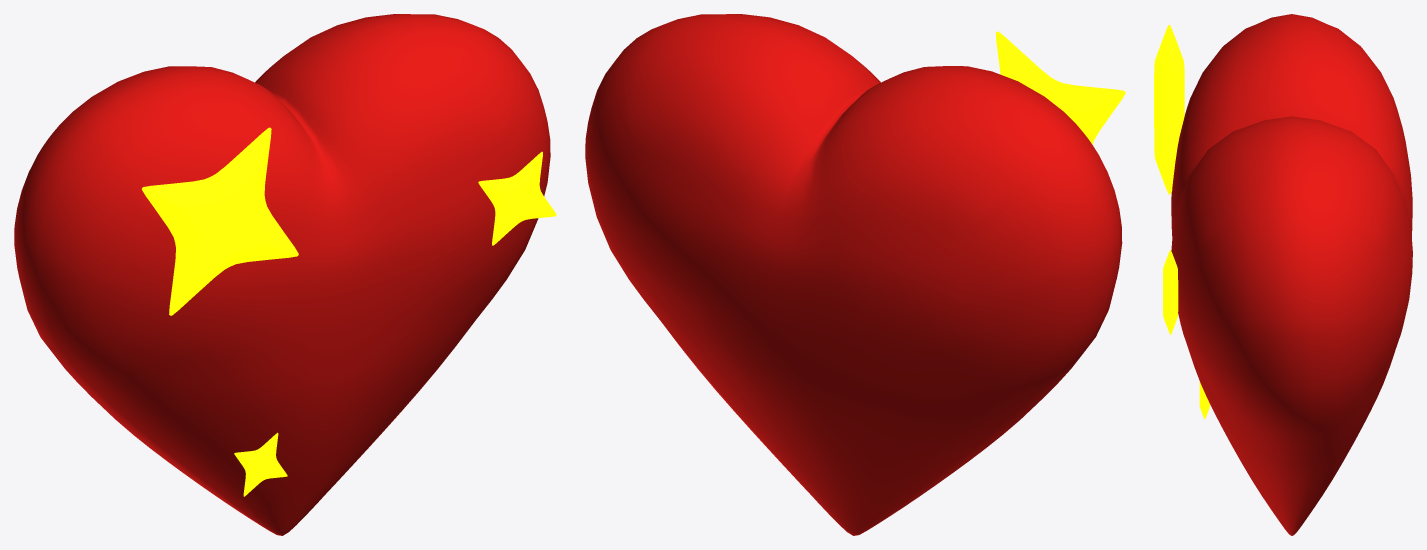
The model's file is heart.gltf.
3 views of the same model, side by side, from view 1: azimuth 30°, elevation 25°; view 2: azimuth 150°, elevation 25°; view 3: azimuth 270°, elevation 25° (orthographic). The views are drawn at different scales.
Visible parts, largest first — view 1: emoji_heart_013, emoji_star_015, emoji_star_026, emoji_star_037; view 2: emoji_heart_013, emoji_star_015; view 3: emoji_heart_013, emoji_star_015, emoji_star_026.
Part boxes in pixels (bbox=[...]): emoji_heart_013: bbox=[14, 14, 550, 535]; emoji_star_015: bbox=[142, 127, 298, 315]; emoji_star_026: bbox=[478, 151, 556, 245]; emoji_star_037: bbox=[234, 432, 287, 496]; emoji_heart_013: bbox=[585, 14, 1122, 535]; emoji_star_015: bbox=[995, 31, 1125, 144]; emoji_heart_013: bbox=[1171, 14, 1412, 535]; emoji_star_015: bbox=[1154, 24, 1184, 194]; emoji_star_026: bbox=[1163, 250, 1178, 334].
Size of the model in its own units: 0.00645 by 0.0058 by 0.003.
Materials: 4 (4 with a texture image).
